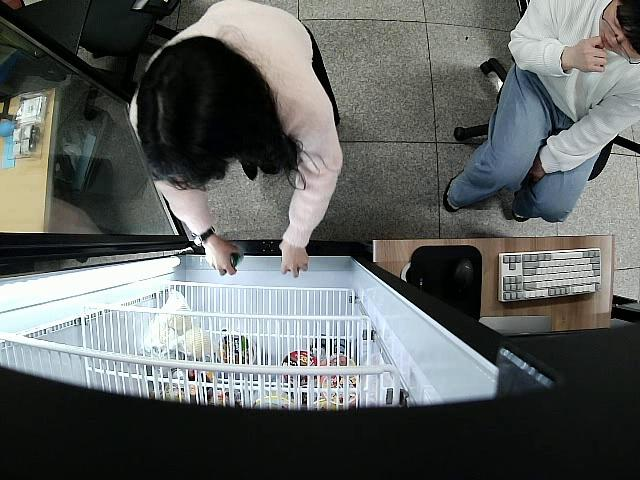00_hand: (202, 239, 238, 277), (279, 239, 310, 278)
